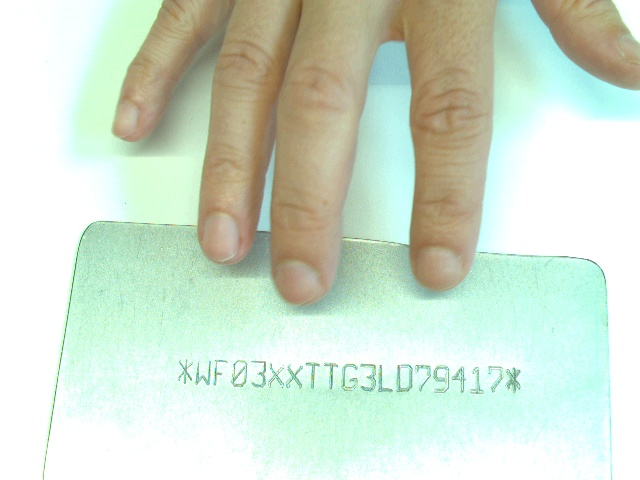0: (231, 358, 247, 388)
1: (469, 365, 486, 395)
3: (359, 363, 376, 394), (249, 359, 267, 388)
4: (452, 364, 467, 396)
7: (414, 363, 433, 391), (487, 365, 504, 394)
9: (433, 364, 450, 395)
d: (395, 363, 414, 396)
f: (213, 358, 227, 387)
g: (342, 363, 360, 390)
l: (378, 363, 393, 394)
t: (322, 361, 339, 390), (305, 361, 321, 390)
w: (195, 359, 211, 385)
x: (285, 362, 305, 390), (267, 362, 285, 389)
